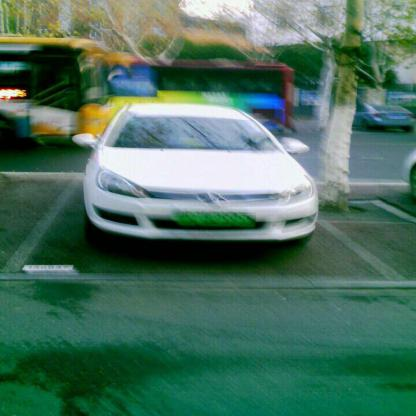lp: (178, 210, 256, 227)
